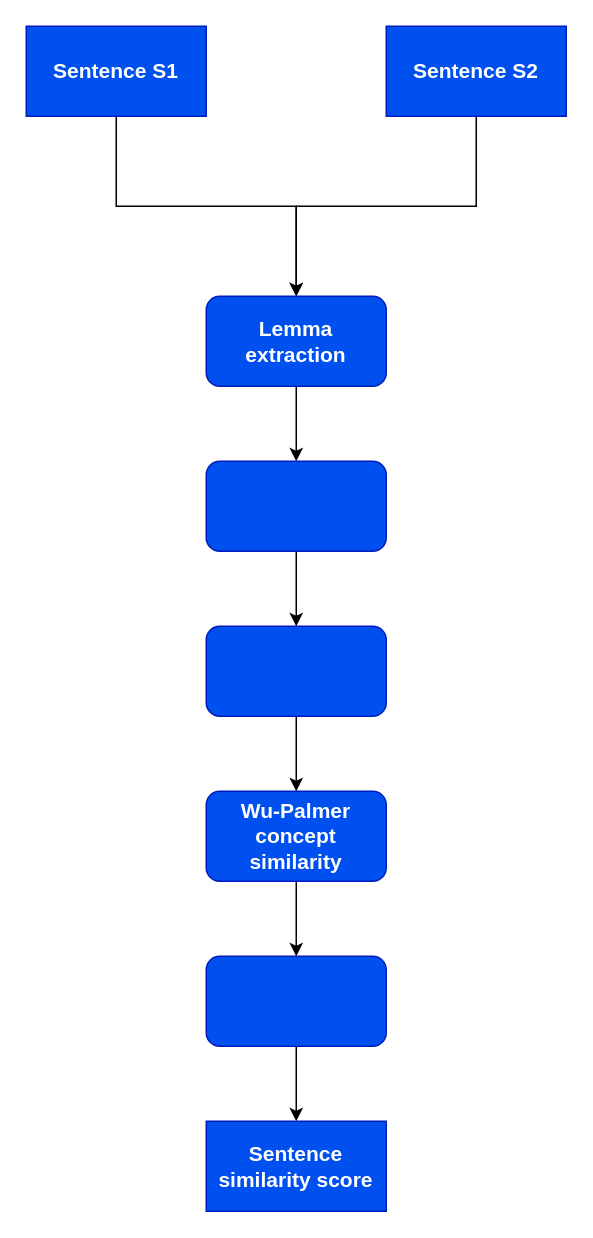
The diagram is 593 pixels wide and 1238 high, and some of its shapes have lost their labels. The centre of each missing label's shape, as x and y in pixels:
"Best-match agregation" goes at (295,1000).
"Concept Retrieval" goes at (295,505).
"Semantic tree construction" goes at (295,670).
